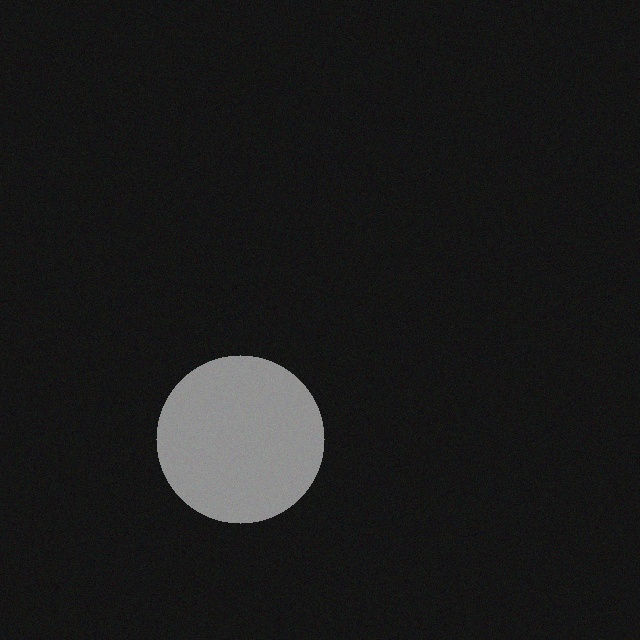circle: (160, 340, 328, 508)
